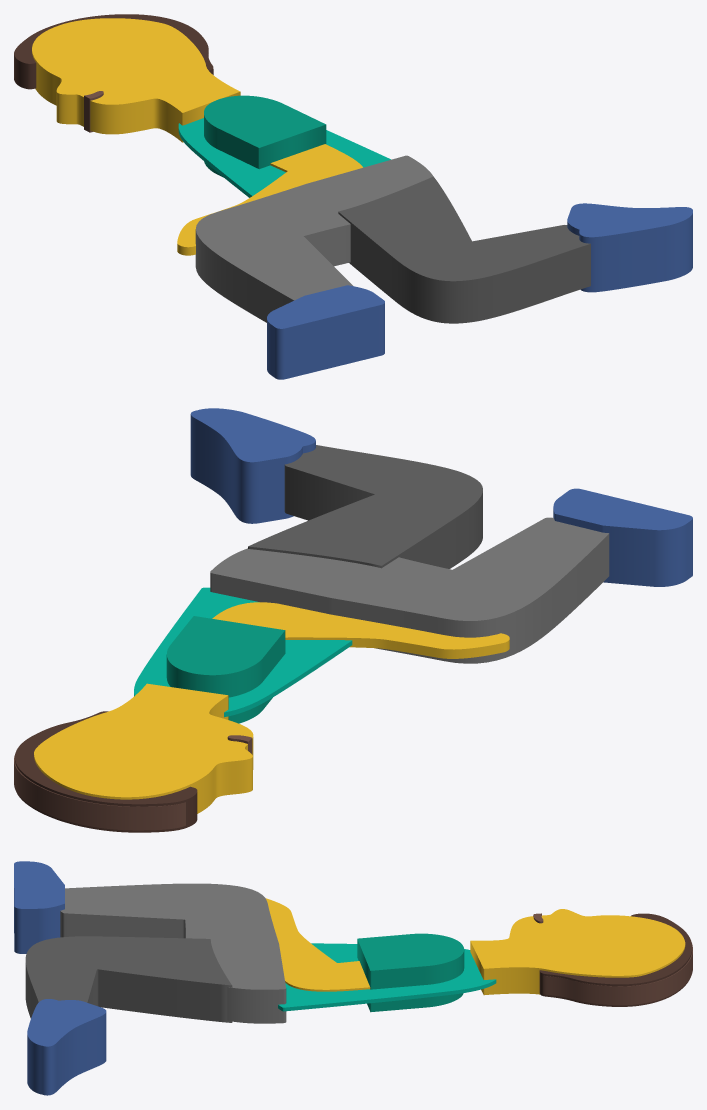
Rendered from emoji_u1f9ce_200d_2642.glb.
3 renders of one model, top to bottom at view 1: azimuth 30°, elevation 25°; view 2: azimuth 150°, elevation 25°; view 3: azimuth 270°, elevation 25°, orthographic. The views are drawn at different scales.
Visible parts, largest first — view 1: emoji_u1f9ce_200d_2642; view 2: emoji_u1f9ce_200d_2642; view 3: emoji_u1f9ce_200d_2642.
Part boxes in pixels (x1,y1,x2,y2): emoji_u1f9ce_200d_2642: [14, 14, 692, 379]; emoji_u1f9ce_200d_2642: [14, 408, 692, 832]; emoji_u1f9ce_200d_2642: [14, 861, 692, 1095].
Bounding box in the file's own units: 0.0213 × 0.0026 × 0.0327.
